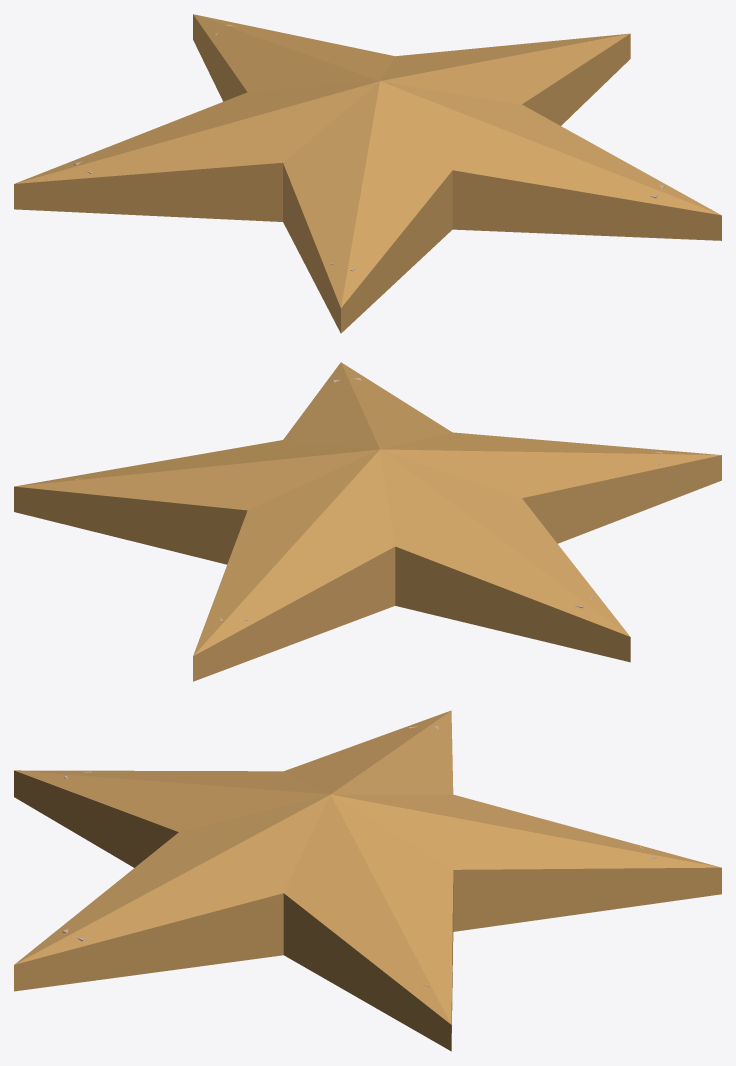
The model's file is starfish_orange.glb.
3 renders of one model, top to bottom at view 1: azimuth 30°, elevation 25°; view 2: azimuth 150°, elevation 25°; view 3: azimuth 270°, elevation 25°, orthographic. The views are drawn at different scales.
Parts seen in each view (by area): view 1: starfish_orange; view 2: starfish_orange; view 3: starfish_orange.
Part boxes in pixels (x1=…): starfish_orange: x1=14, y1=14, x2=721, y2=333; starfish_orange: x1=14, y1=362, x2=721, y2=681; starfish_orange: x1=14, y1=710, x2=721, y2=1051.
Bounding box in the file's own units: 0.3043 × 0.045 × 0.2894.
